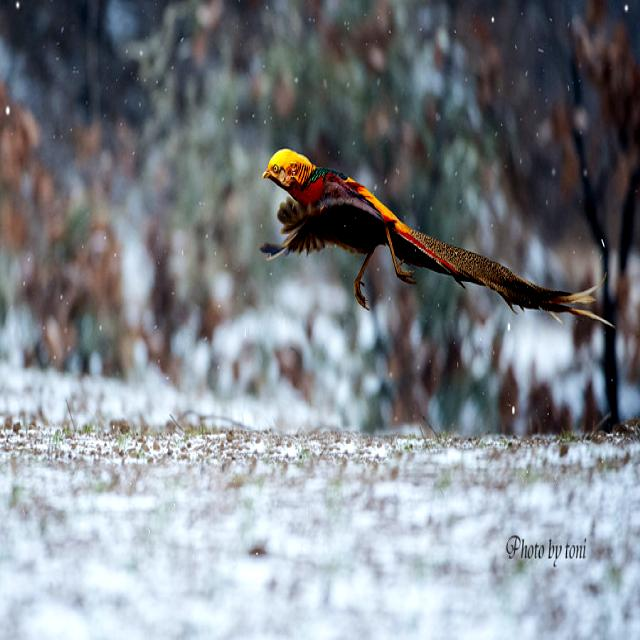Chrysolophus pictus feather: (410, 230, 595, 315)
